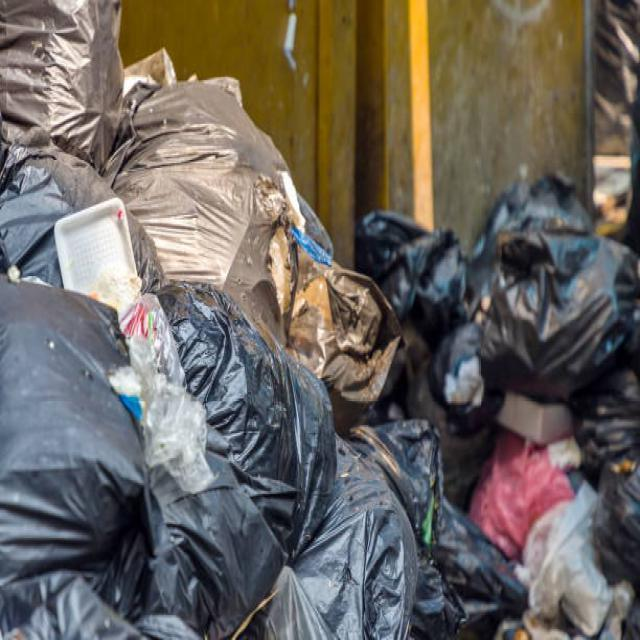Trashbag: (176, 272, 344, 548), (0, 269, 142, 573), (466, 178, 640, 412), (297, 454, 430, 640), (349, 200, 480, 353)
